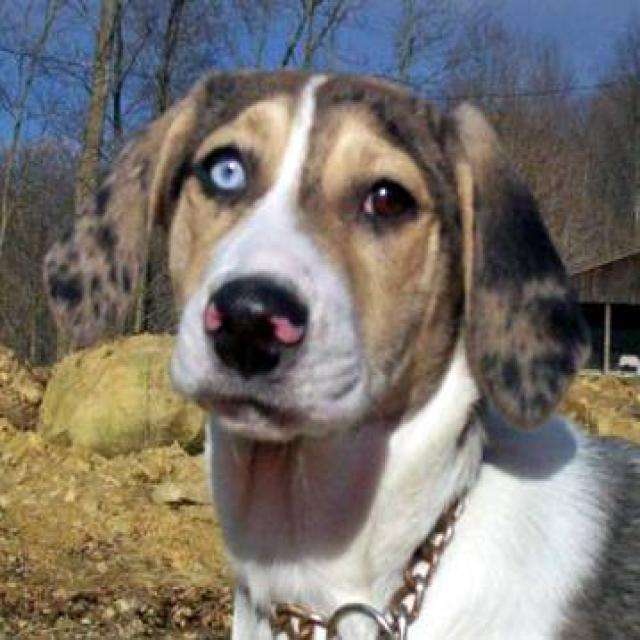dog: (41, 65, 638, 638)
